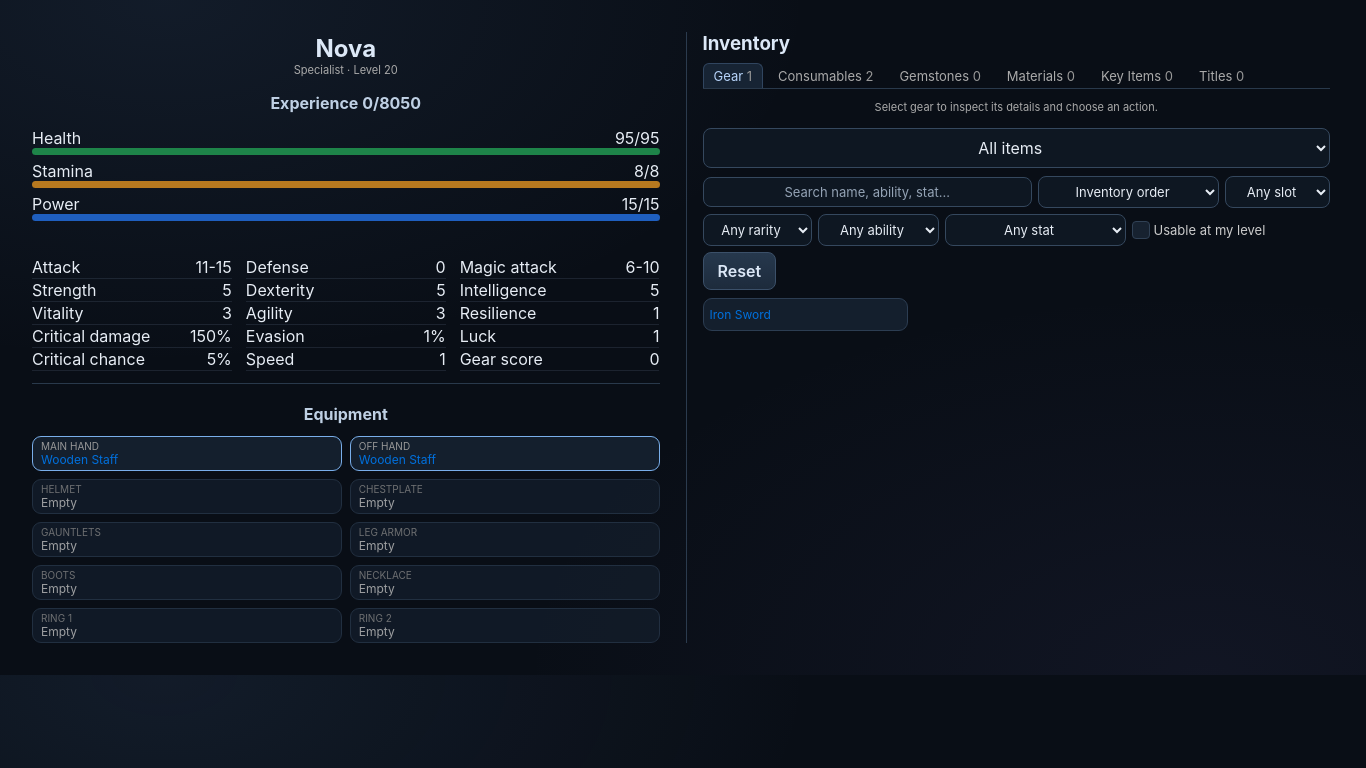
Test: combat prevents opening the certificate flow
Click the tab "Consumables 2". click: (826,76)
box: [767,63,884,88]
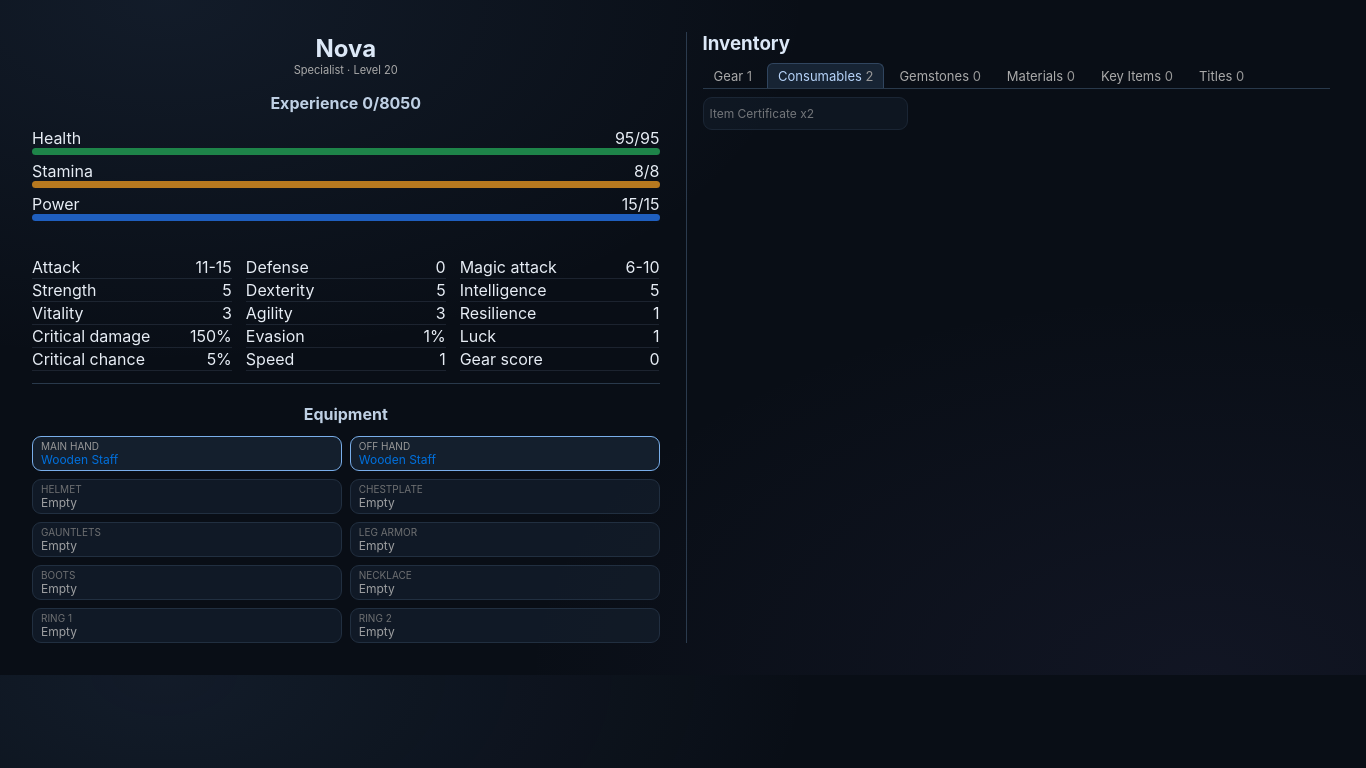
Check: the button "Item Certificate x2" is disabled, box [702,97,908,130]
